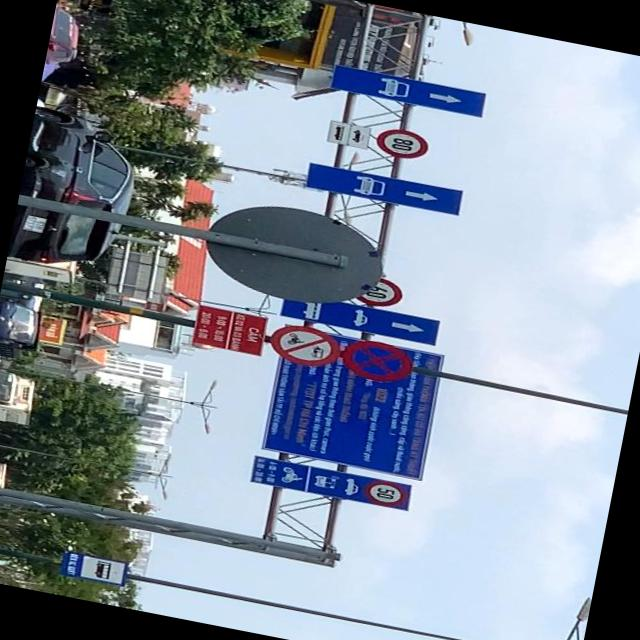P-104: (266, 320, 344, 371)
P-130: (338, 336, 414, 386)
